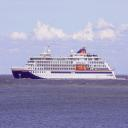cruises: (10, 45, 119, 83)
